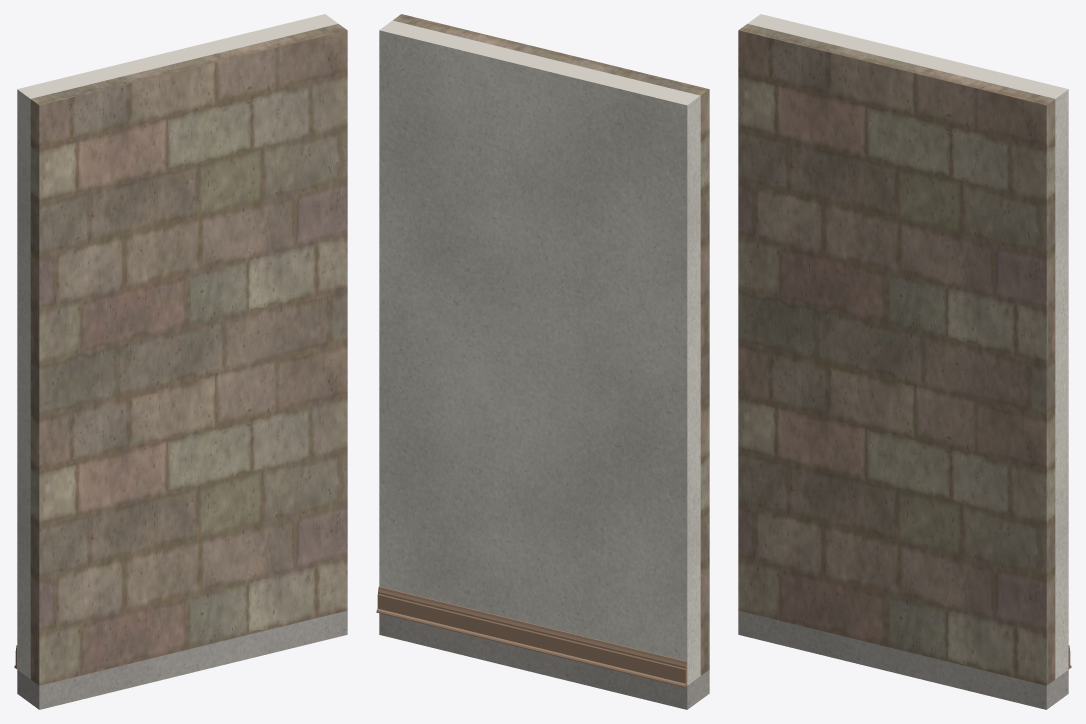
The model's file is s_plain.glb.
3 renders of one model, left to right at view 1: azimuth 30°, elevation 25°; view 2: azimuth 150°, elevation 25°; view 3: azimuth 330°, elevation 25°, orthographic.
Parts seen in each view (by area): view 1: s_plain_fstone, s_plain_plaster, s_plain_concrete; view 2: s_plain_plaster, s_plain_fstone, molduras, s_plain_concrete; view 3: s_plain_fstone, s_plain_plaster, s_plain_concrete.
Part boxes in pixels (<box>): s_plain_fstone: <box>30,24,347,685</box>; s_plain_plaster: <box>17,14,338,678</box>; s_plain_concrete: <box>17,610,347,709</box>; s_plain_plaster: <box>379,20,700,685</box>; s_plain_fstone: <box>393,14,709,675</box>; molduras: <box>376,586,687,687</box>; s_plain_concrete: <box>379,613,709,709</box>; s_plain_fstone: <box>738,24,1055,685</box>; s_plain_plaster: <box>747,14,1068,678</box>; s_plain_concrete: <box>738,610,1068,709</box>.
Bounding box in the file's own units: 2 × 3.75 × 0.28.
4 materials, 3 textured.
